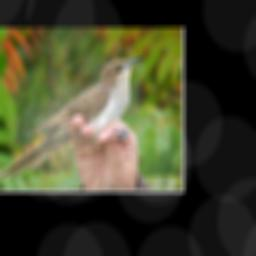Cuckoo: (0, 54, 143, 179)
